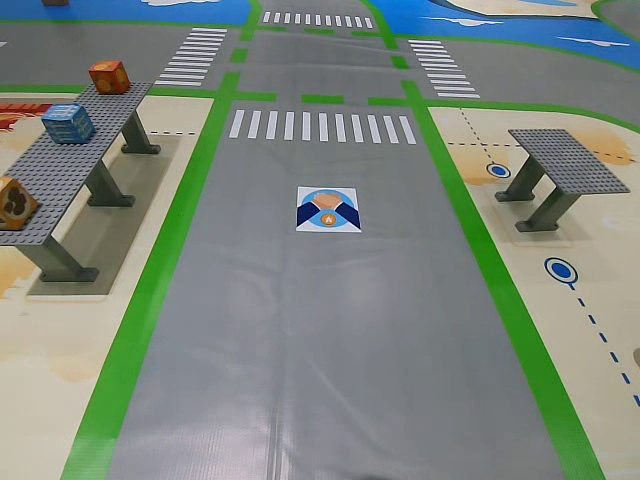fishes: (40, 105, 102, 146)
oranges: (89, 59, 135, 94)
pinecones: (1, 172, 41, 230)
thingsTurnStars: (297, 187, 361, 235)
